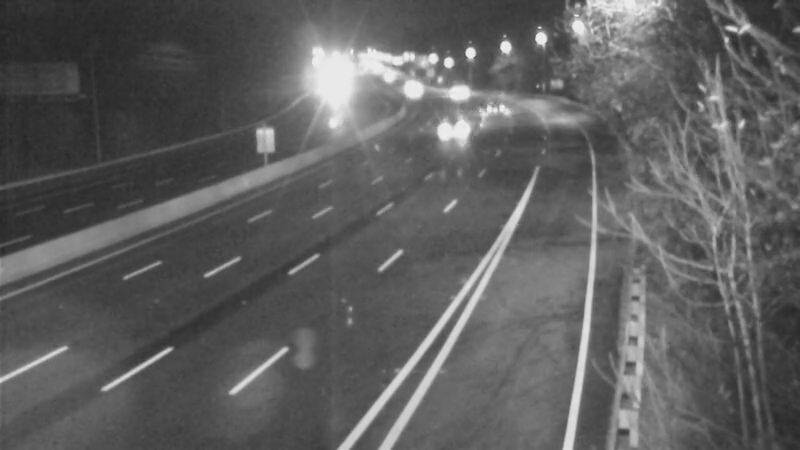vehicle: (391, 66, 441, 116), (437, 67, 487, 117), (462, 83, 512, 133), (432, 105, 482, 155)
